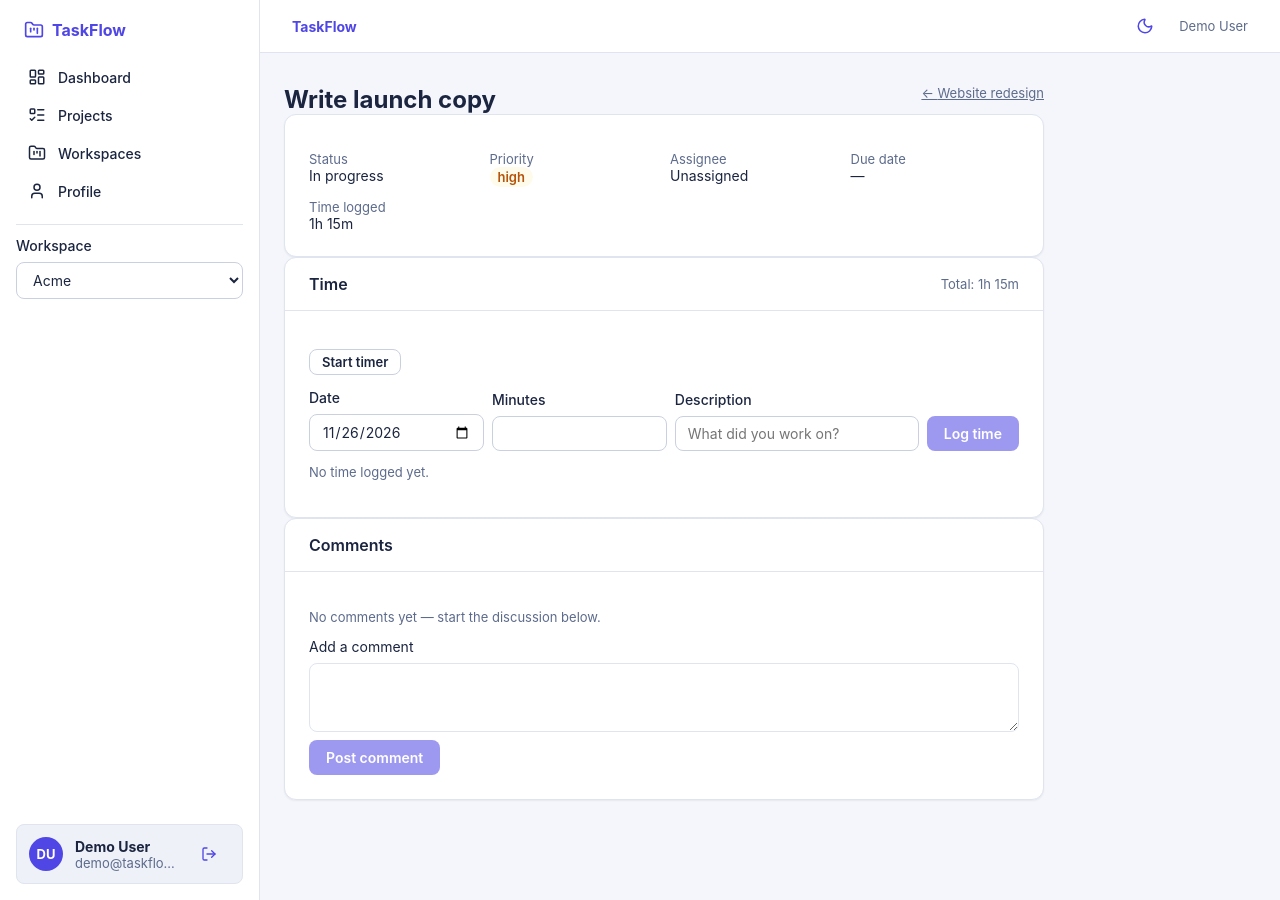
Time tracking — "Member logs time from the UI" (@w2) › submits the manual entry form and prepends the new entry
Check: the text "No time logged yet." is shown, box [309, 464, 429, 480]
Step 1. Type "45" into the number field labelled "Minutes" → (579, 434), box [492, 416, 667, 451]
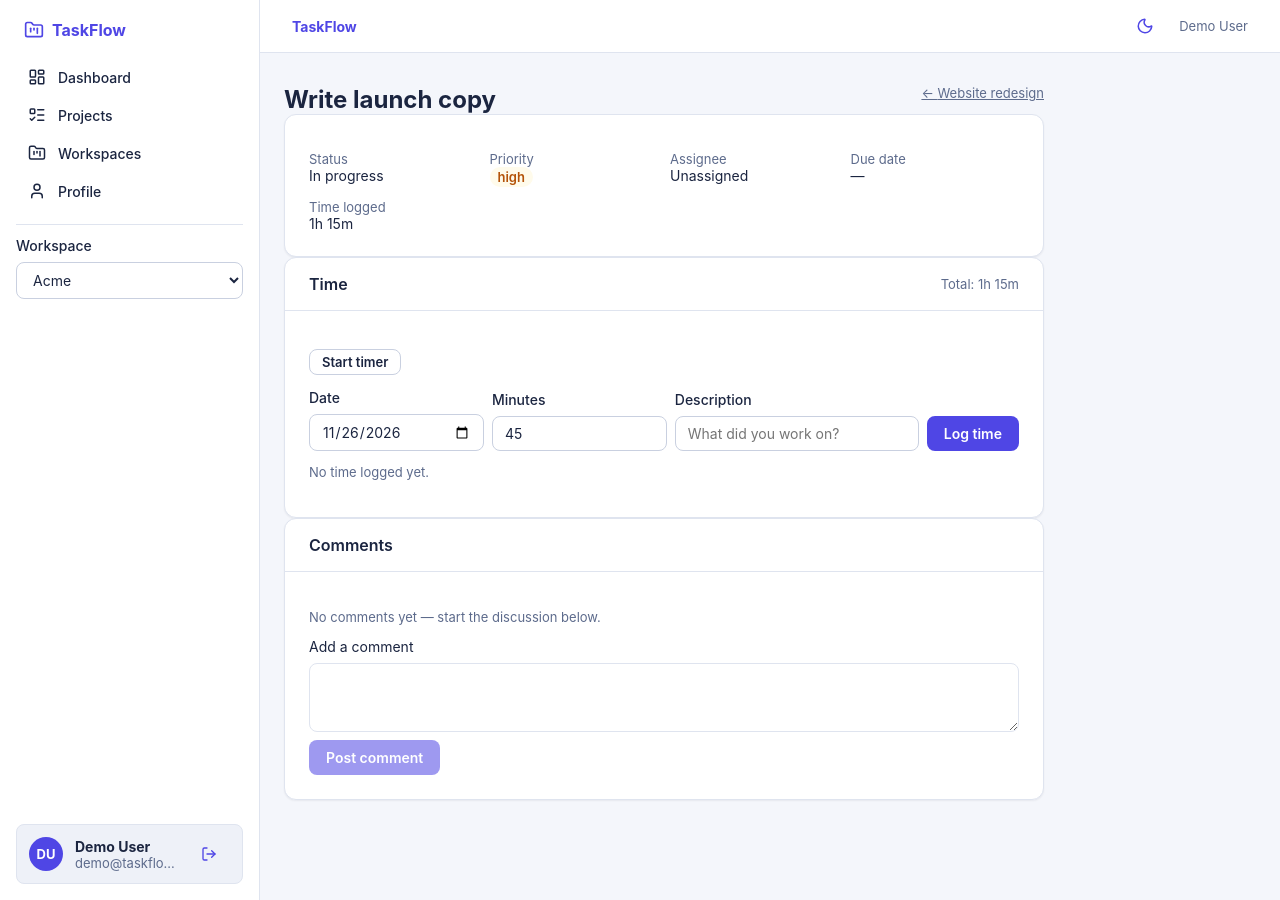
Step 2. Type "Pairing session" into the field labelled "Description" → (797, 434), box [675, 416, 919, 451]
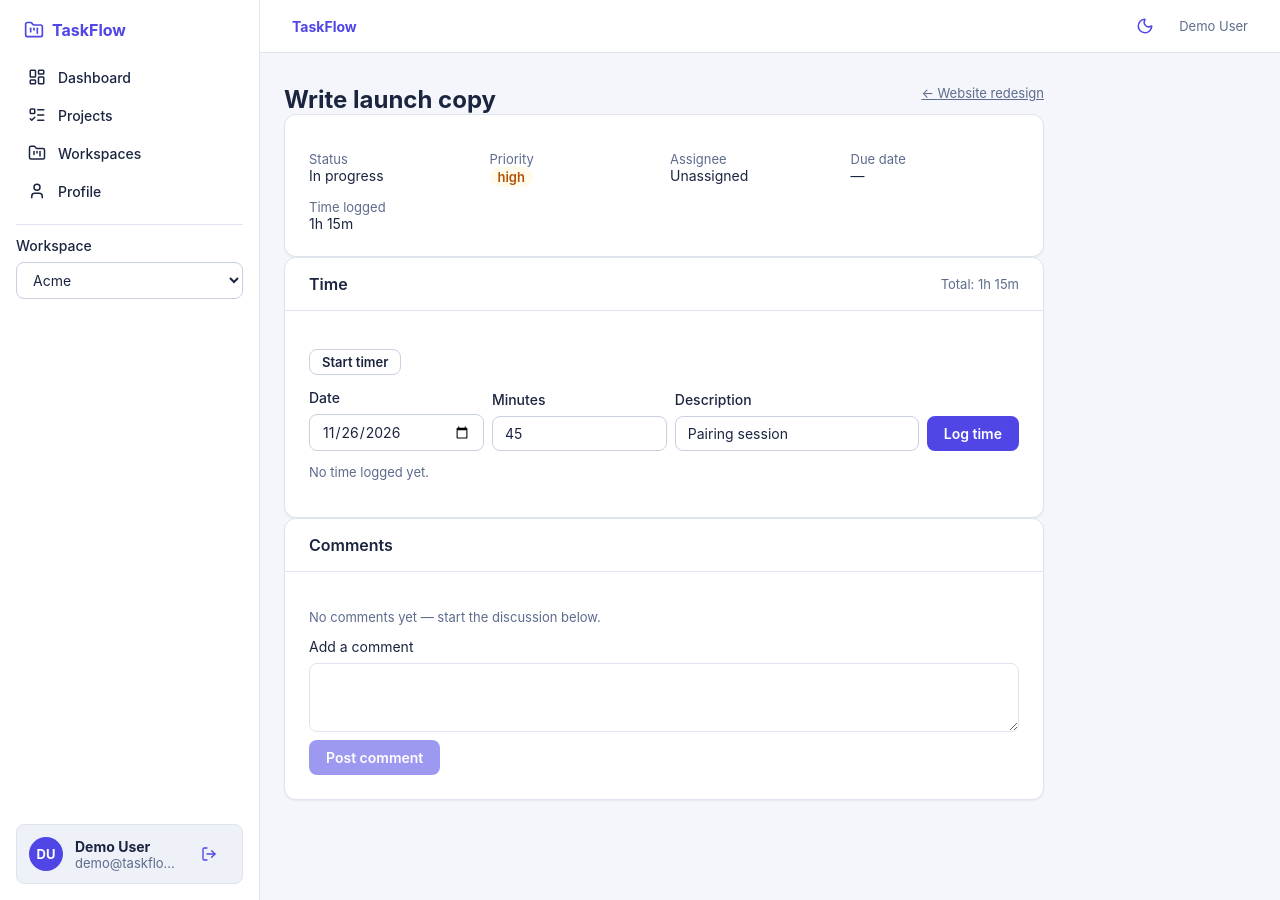
Step 3. Click the button "Log time" → (973, 434), box [927, 416, 1019, 451]
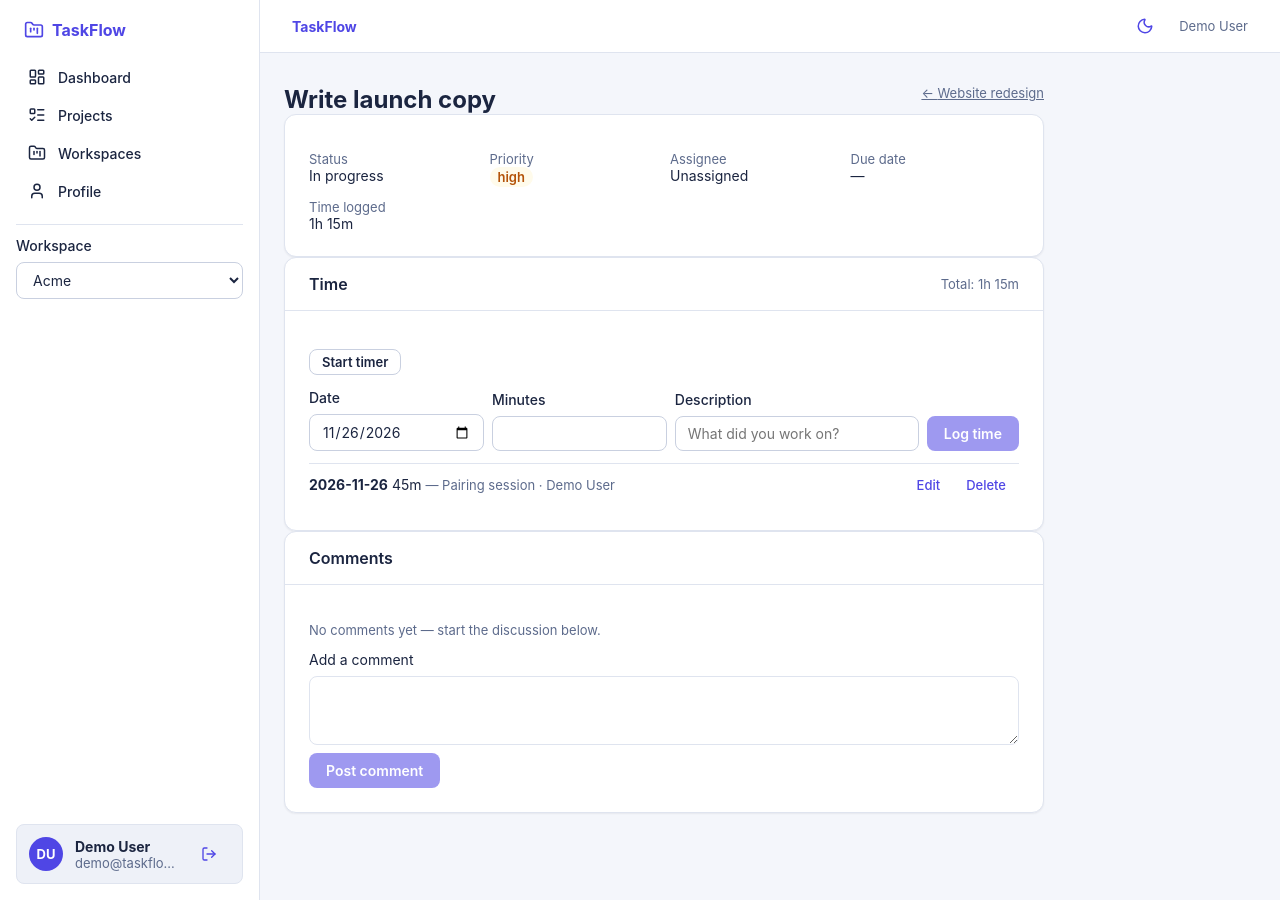
Check: the text "— Pairing session" is shown, box [426, 477, 535, 493]
Check: the text "45m" is shown, box [392, 476, 422, 493]
